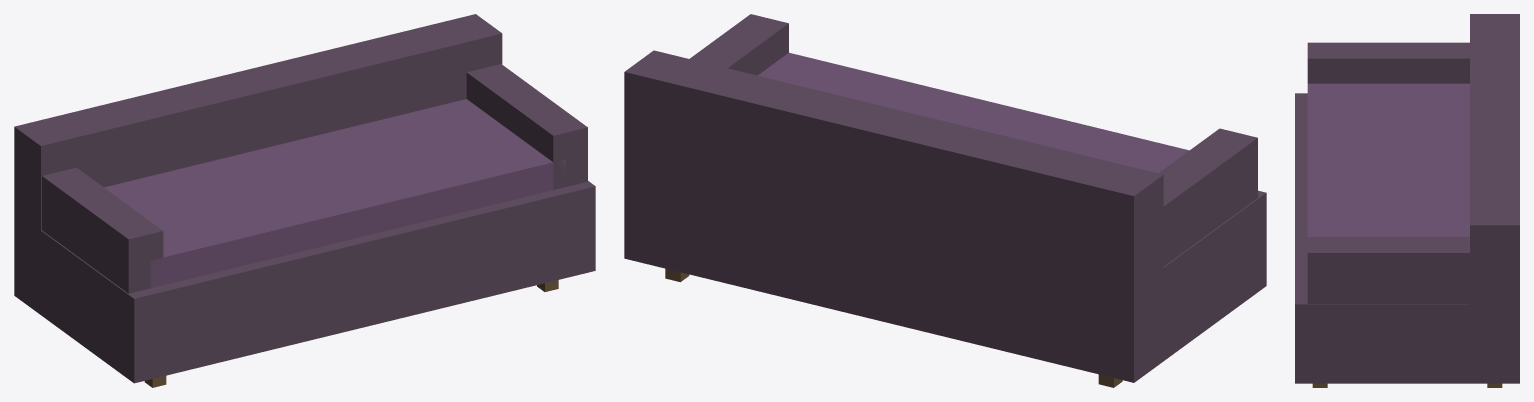
The model's file is sofa.glb.
The picture shows the model from 3 angles, left to right: view 1: azimuth 30°, elevation 25°; view 2: azimuth 150°, elevation 25°; view 3: azimuth 270°, elevation 25°; orthographic projection. The views are drawn at different scales.
Size of the model in its own units: 2 by 0.775 by 0.9.
